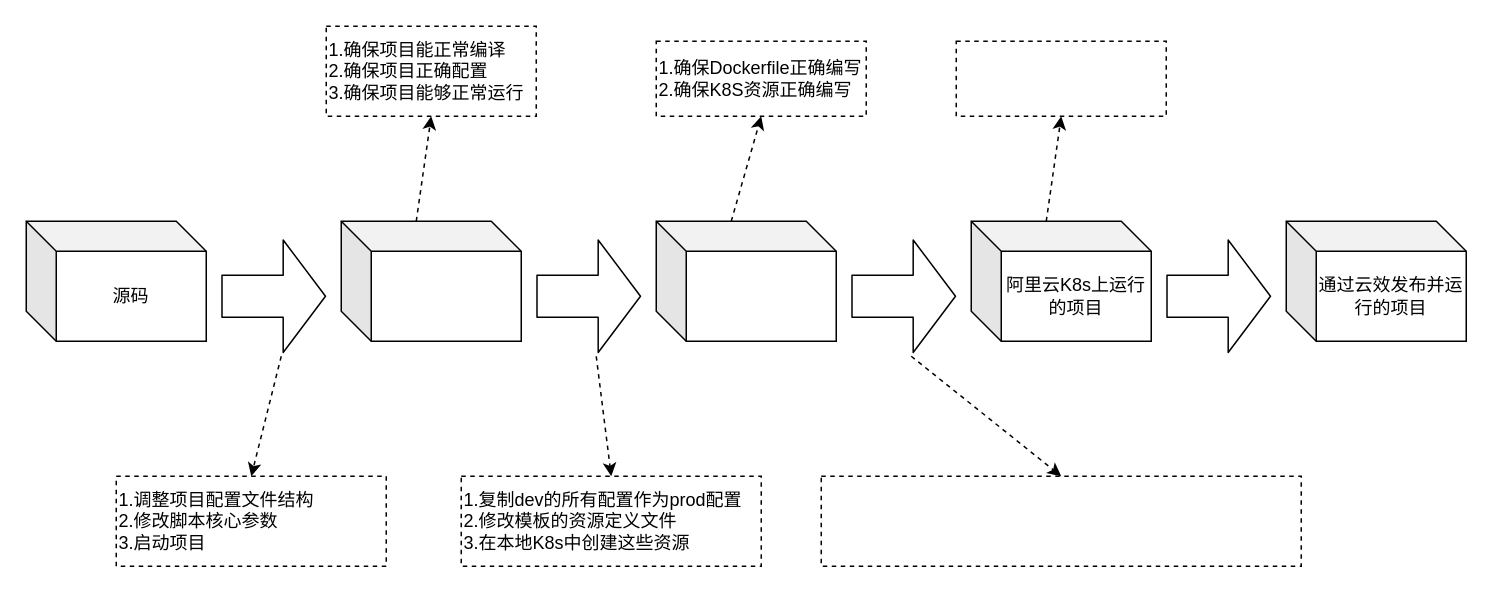
This 1493x593 diagram has some shape labels left out. Here are the shapes that lost their labels. From the top down, the box of each, then its label:
(955, 40, 1166, 116): 1.确保配置文件正确 1.确保网络正确配置
(340, 220, 521, 341): 本地运行的项目
(655, 220, 836, 341): 本地K8s中运行的项目
(820, 475, 1301, 566): 1.从线上扒下配置文件，替换掉prod里的部分配置 2.在RDS中建库，修改database上的中相关参数 3.在阿里云K8s中创建资源，并进行测试
